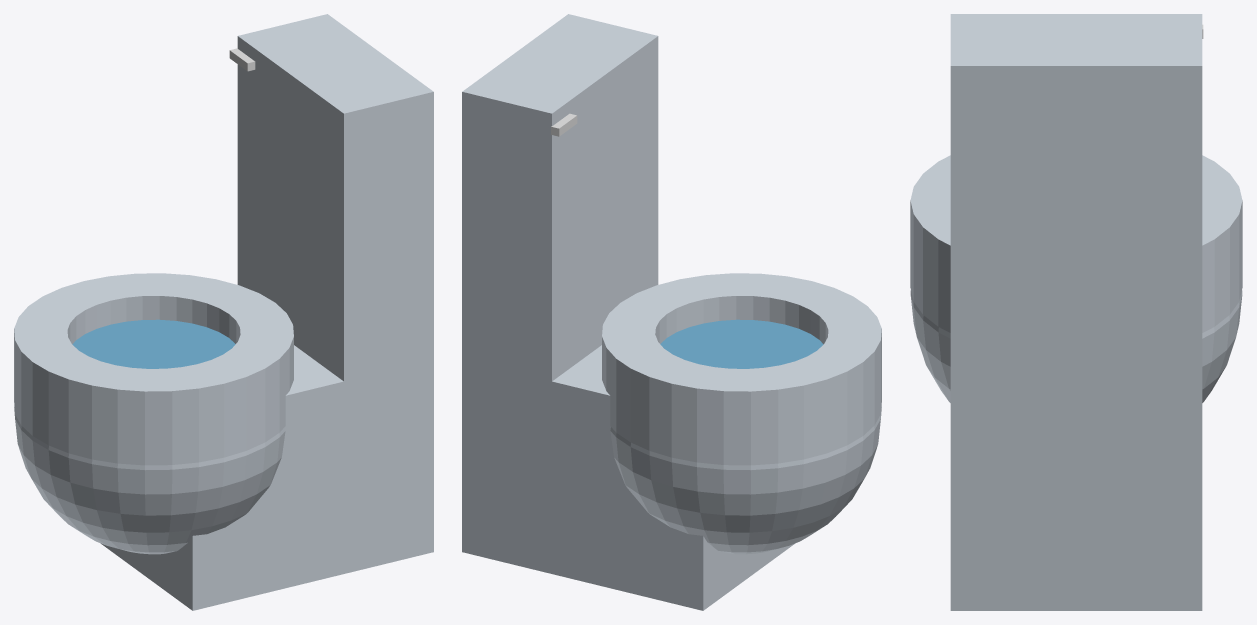
The model's file is Toilet.fbx.
The picture shows the model from 3 angles, left to right: view 1: azimuth 30°, elevation 25°; view 2: azimuth 150°, elevation 25°; view 3: azimuth 270°, elevation 25°; orthographic projection. The views are drawn at different scales.
Visible parts, largest first — view 1: Cube; view 2: Cube; view 3: Cube.
Boxes of the visible parts, <box> form: Cube: <box>14,14,433,610</box>; Cube: <box>462,14,881,610</box>; Cube: <box>910,14,1242,610</box>.
Size of the model in its own units: 287 by 362 by 200.
